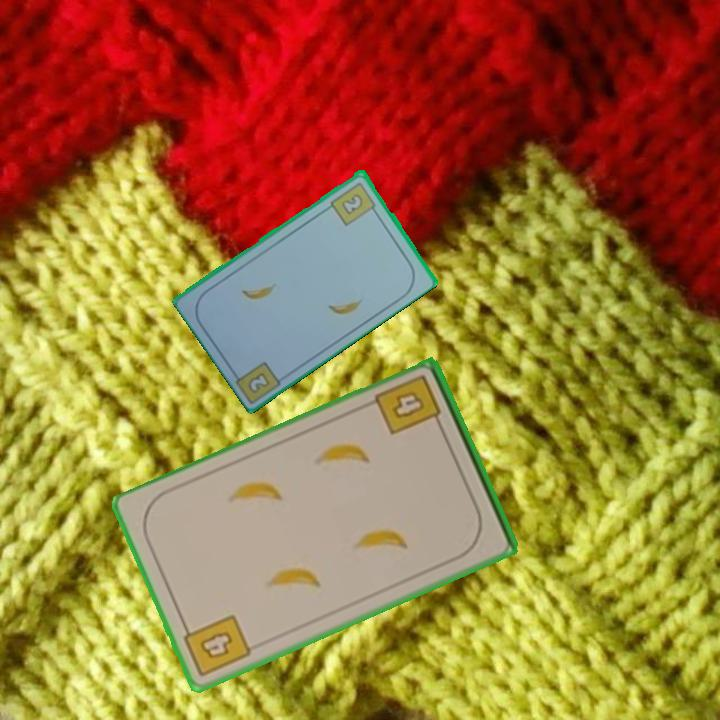2b: (327, 178, 380, 228), (244, 368, 273, 394)
4b: (178, 611, 254, 681), (371, 371, 446, 439)
